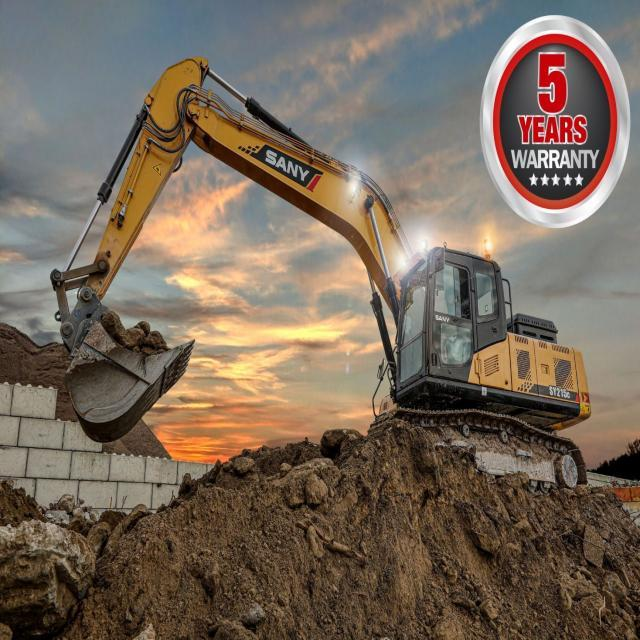C_E: (48, 54, 592, 507)
